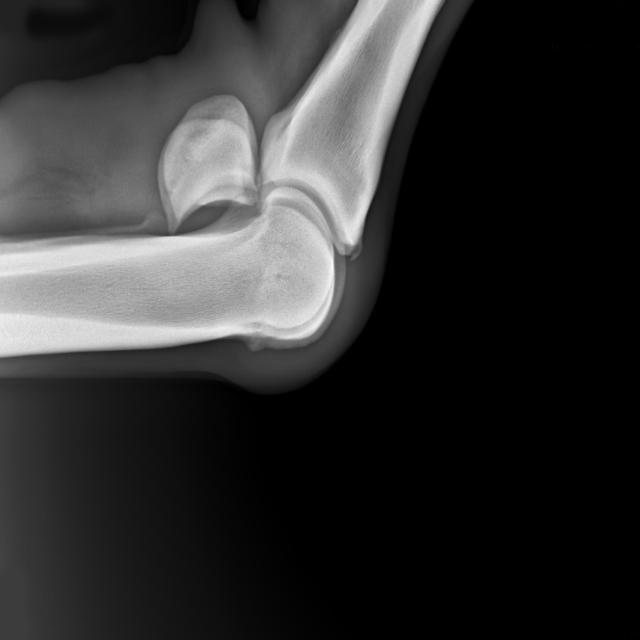joint-ht8A: (142, 44, 404, 407)
